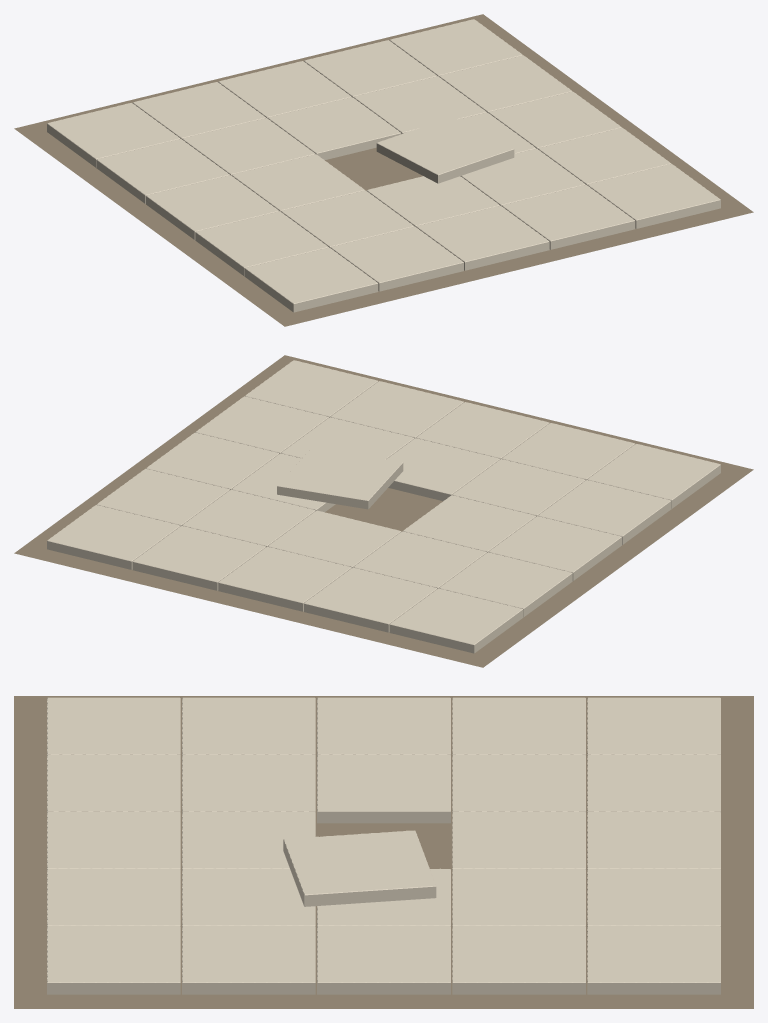
Rendered from terilgan.glb.
The picture shows the model from 3 angles, top to bottom: view 1: azimuth 30°, elevation 25°; view 2: azimuth 150°, elevation 25°; view 3: azimuth 270°, elevation 25°; orthographic projection. The views are drawn at different scales.
Parts seen in each view (by area): view 1: qum, t.012, t, t.015, t.005, t.010, t.020, t.013, t.001, t.002, t.003, t.004 (+14 smaller); view 2: qum, t.004, t.012, t.019, t.009, t.014, t.024, t.002, t.003, t.001, t, t.006 (+14 smaller); view 3: qum, t.012, t.007, t.020, t.021, t.022, t.023, t.024, t, t.001, t.002, t.003 (+14 smaller).
Part boxes in pixels (left/top/right/bottom): qum: left=14, top=14, right=753, bottom=326; t.012: left=376, top=117, right=514, bottom=183; t: left=244, top=247, right=378, bottom=312; t.015: left=501, top=185, right=635, bottom=249; t.005: left=330, top=226, right=463, bottom=291; t.010: left=416, top=205, right=549, bottom=270; t.020: left=587, top=164, right=720, bottom=228; t.013: left=267, top=97, right=401, bottom=159; t.001: left=195, top=211, right=328, bottom=276; t.002: left=146, top=175, right=279, bottom=239; t.003: left=96, top=139, right=229, bottom=203; t.004: left=47, top=103, right=180, bottom=167; qum: left=14, top=355, right=753, bottom=667; t.004: left=389, top=588, right=523, bottom=653; t.012: left=277, top=447, right=403, bottom=509; t.019: left=132, top=526, right=266, bottom=590; t.009: left=304, top=567, right=437, bottom=632; t.014: left=218, top=546, right=351, bottom=611; t.024: left=47, top=505, right=180, bottom=569; t.002: left=488, top=516, right=621, bottom=580; t.003: left=439, top=552, right=572, bottom=617; t.001: left=538, top=480, right=671, bottom=544; t: left=587, top=444, right=720, bottom=508; t.006: left=452, top=459, right=585, bottom=516; qum: left=14, top=696, right=753, bottom=1008; t.012: left=283, top=830, right=436, bottom=906; t.007: left=317, top=754, right=450, bottom=823; t.020: left=47, top=926, right=180, bottom=994; t.021: left=182, top=926, right=315, bottom=994; t.022: left=317, top=926, right=450, bottom=994; t.023: left=452, top=926, right=585, bottom=994; t.024: left=587, top=926, right=720, bottom=994; t: left=47, top=697, right=180, bottom=754; t.001: left=182, top=697, right=315, bottom=754; t.002: left=317, top=697, right=450, bottom=754; t.003: left=452, top=697, right=585, bottom=754.
Size of the model in its own units: 1.66 by 0.062 by 1.66.
